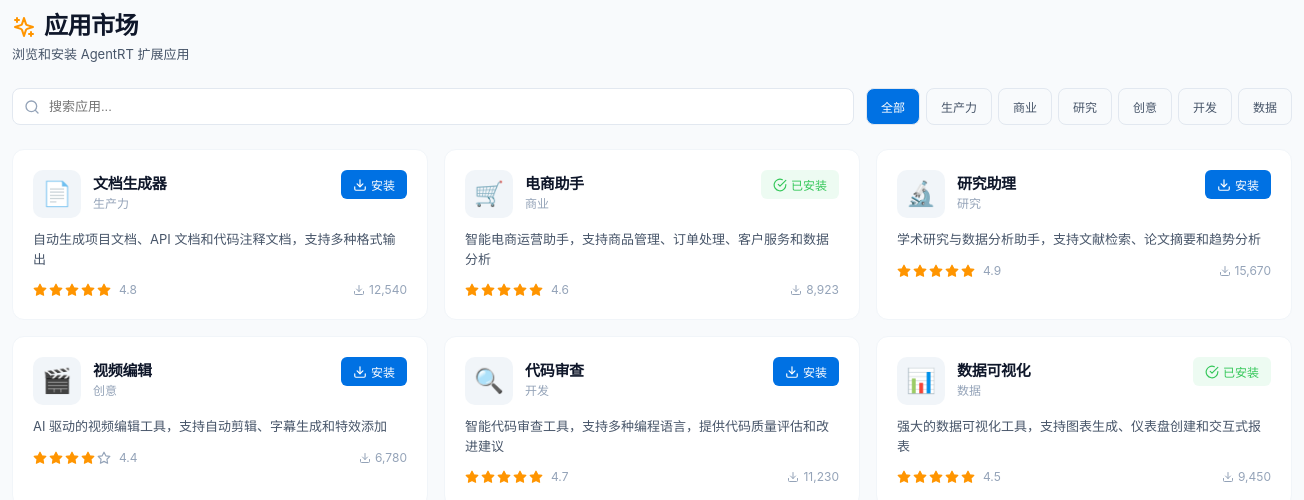
Scenario: OpenLab › shows no results when search matches nothing
Type "zzzznomatch9999" into the search field with placeholder "搜索应用..." at (433, 107), box [12,88,854,125]
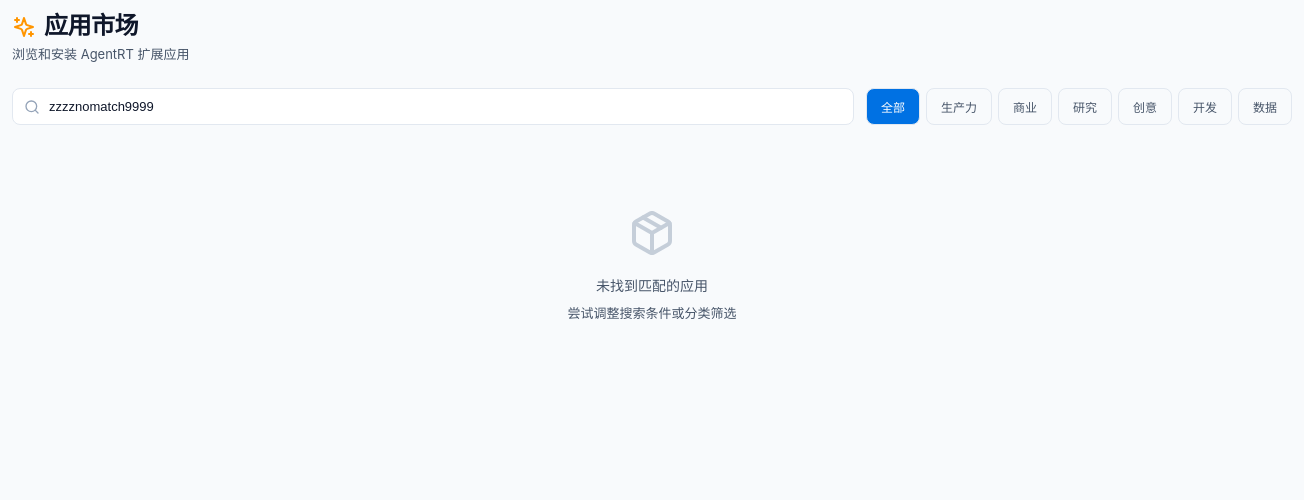
Now the text "未找到匹配的应用" is shown, box [596,277,708,294]
